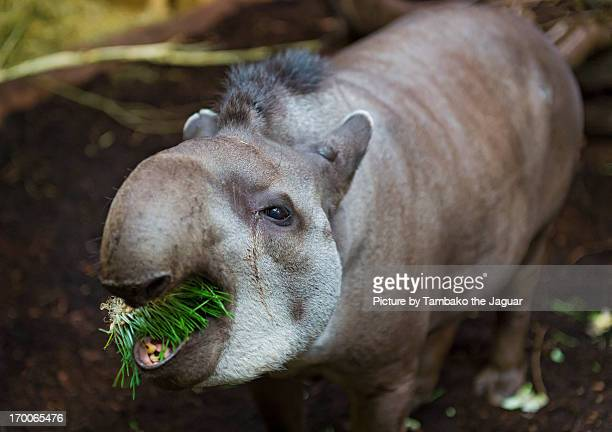Anta: (96, 3, 554, 403)
